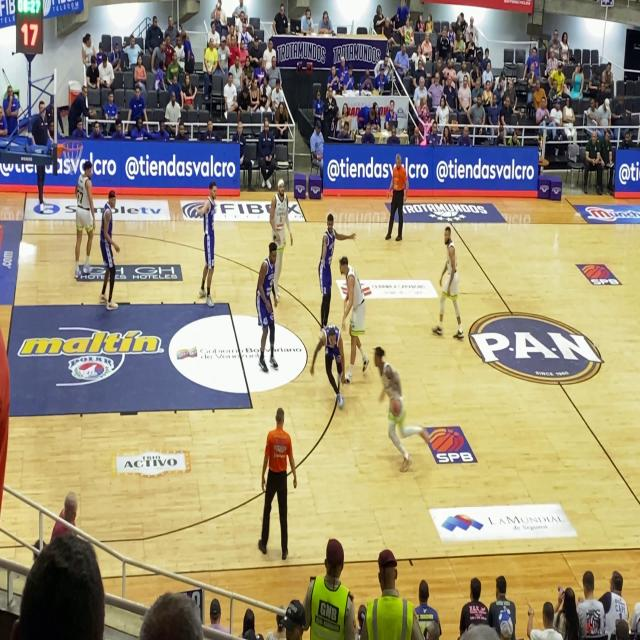Ball: (387, 394, 402, 419)
referee: (256, 387, 301, 559), (383, 146, 415, 248)
team1: (370, 341, 414, 483), (335, 245, 372, 389), (424, 215, 464, 345), (70, 150, 98, 282), (268, 169, 292, 272)
team2: (250, 231, 286, 370), (195, 172, 226, 308), (92, 184, 125, 311), (310, 314, 348, 412), (312, 200, 340, 326)
ubasket: (63, 141, 84, 172)
